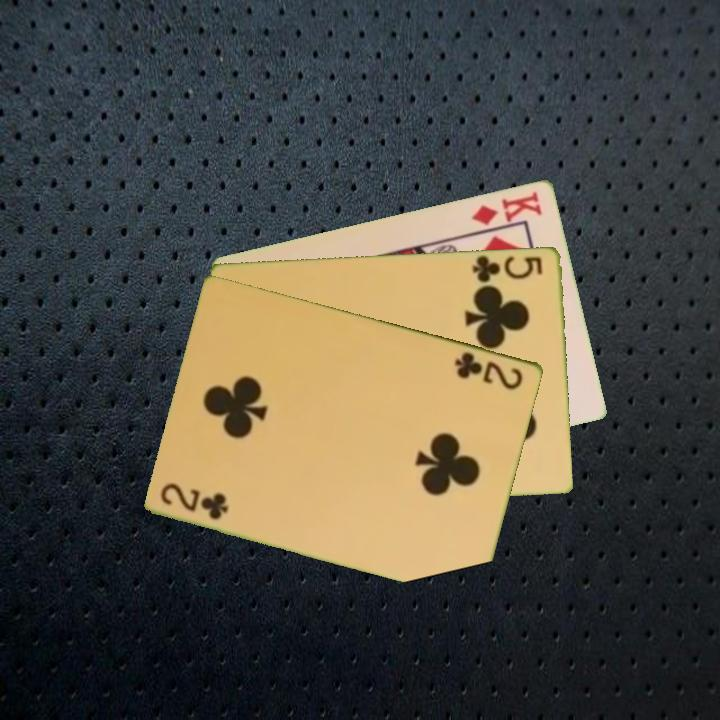2c: (451, 348, 526, 392), (157, 479, 232, 523)
5c: (469, 252, 546, 285)
Kd: (468, 187, 545, 228)
